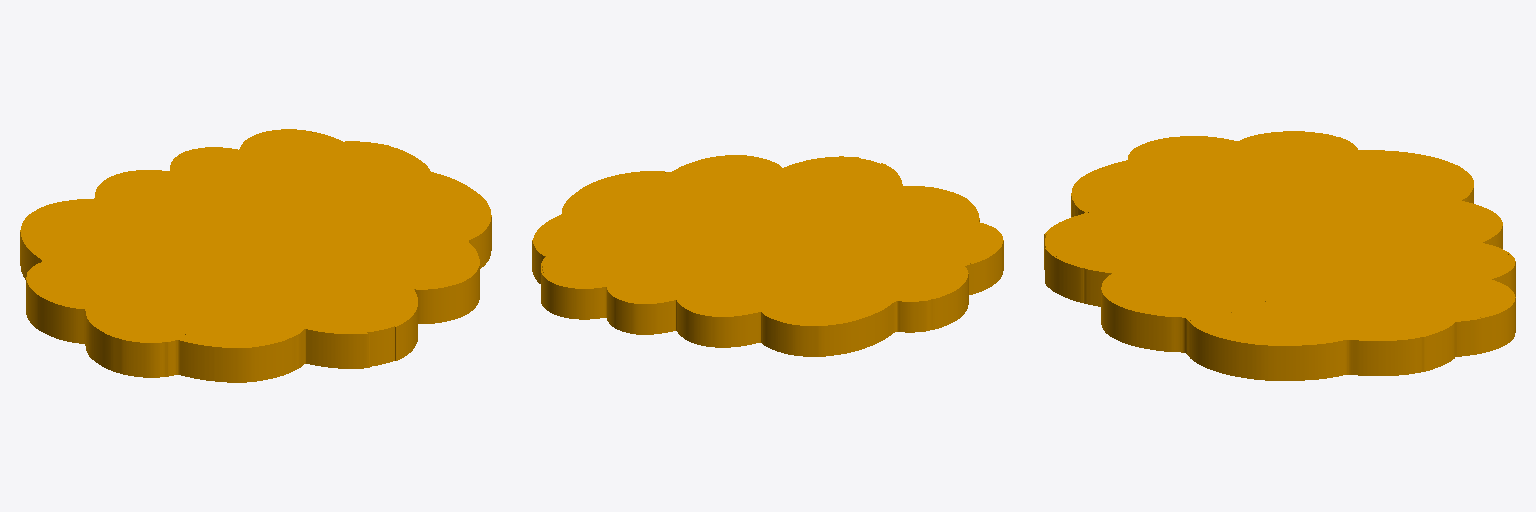
robot.urdf — i1.urdf:
<?xml version="1.0" encoding="utf-8"?>
<robot name="i1.urdf">
  <link name="baseLink">
    <contact>
      <lateral_friction value="0.5"/>
      <rolling_friction value="0.001"/>
      <spinning_friction value="0.001"/>
    </contact>
    <inertial>
      <origin rpy="0 0 0" xyz="0 0 0"/>
      <mass value="0.07"/>
      <inertia ixx="1" ixy="0" ixz="0" iyy="1" iyz="0" izz="1"/>
    </inertial>
    <visual>
      <origin rpy="0 0 0" xyz="0 0 0"/>
      <geometry>
        <mesh filename="i1.obj" scale="0.2 0.2 0.1"/> <!-- Scale x and y by 3.5, z by 1.0 -->
      </geometry>
    </visual>
    <collision>
      <origin rpy="0 0 0" xyz="0 0 0"/>
      <geometry>
        <mesh filename="i1.obj" scale="0.2 0.2 0.1"/> <!-- Scale x and y by 3.5, z by 1.0 -->
      </geometry>
    </collision>
  </link>
</robot>

--- What the picture shows (computed from the rendered views, not written in the file) ---
3 views of the same robot in one strip: view 1: azimuth 30°, elevation 25°; view 2: azimuth 150°, elevation 25°; view 3: azimuth 270°, elevation 25° (orthographic).
Model i1.urdf with 1 links and 0 joints (none), rooted at baseLink, posed all joints at 0.
Links seen in each view (by area): view 1: baseLink; view 2: baseLink; view 3: baseLink.
Boxes of the visible links, bbox=[...] form: baseLink: bbox=[20, 129, 491, 382]; baseLink: bbox=[532, 155, 1003, 356]; baseLink: bbox=[1044, 131, 1515, 380].
Size in the robot's own frame: 0.5164 by 0.4786 by 0.0394 metres.
Meshes: 1 distinct files referenced, 1 mesh visuals loaded (1 OBJ).